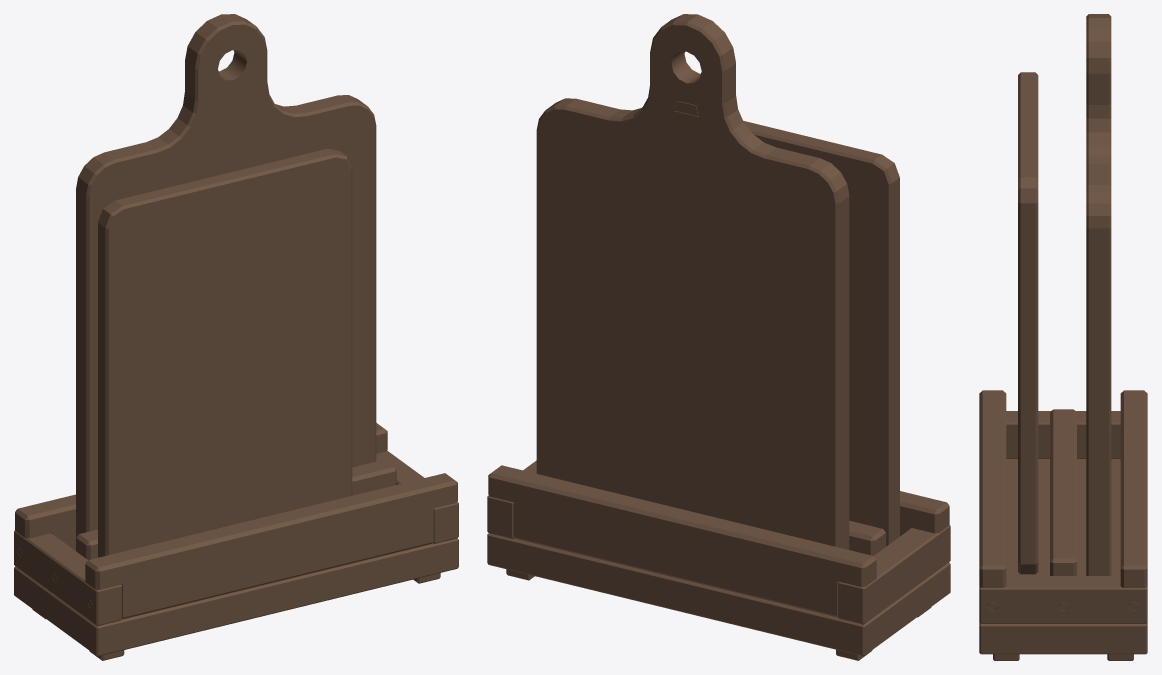
The model's file is kitchen-cutting-boards-ebc5b0e13040.glb.
The picture shows the model from 3 angles, left to right: view 1: azimuth 30°, elevation 25°; view 2: azimuth 150°, elevation 25°; view 3: azimuth 270°, elevation 25°; orthographic projection. The views are drawn at different scales.
Visible parts, largest first — view 1: wood; view 2: wood; view 3: wood.
Part boxes in pixels (bbox=[...]): wood: bbox=[14, 14, 458, 660]; wood: bbox=[487, 14, 950, 660]; wood: bbox=[979, 14, 1147, 660].
Bounding box in the file's own units: 0.25 × 0.37 × 0.1.
